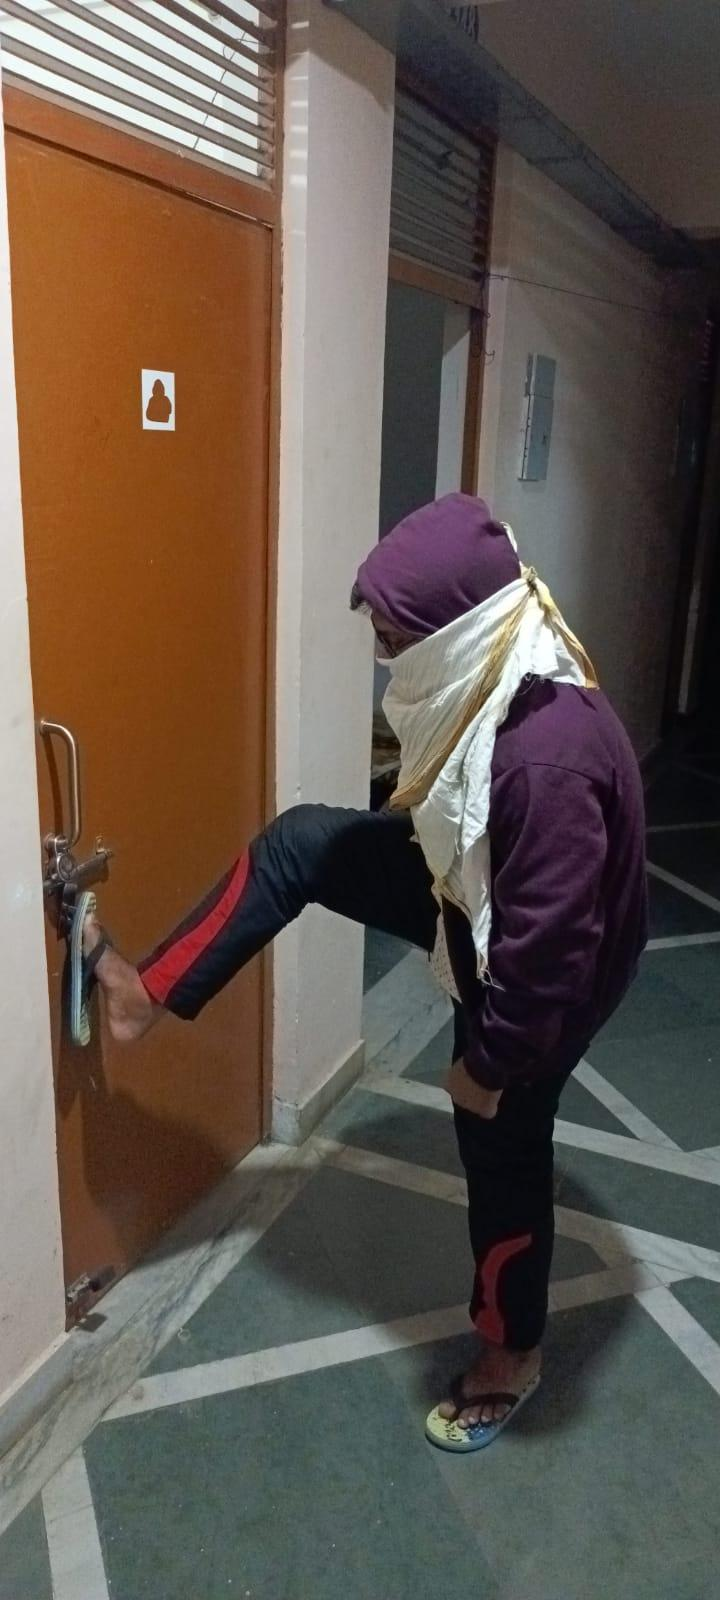suspicion: (10, 470, 670, 1490), (270, 420, 640, 1490)
